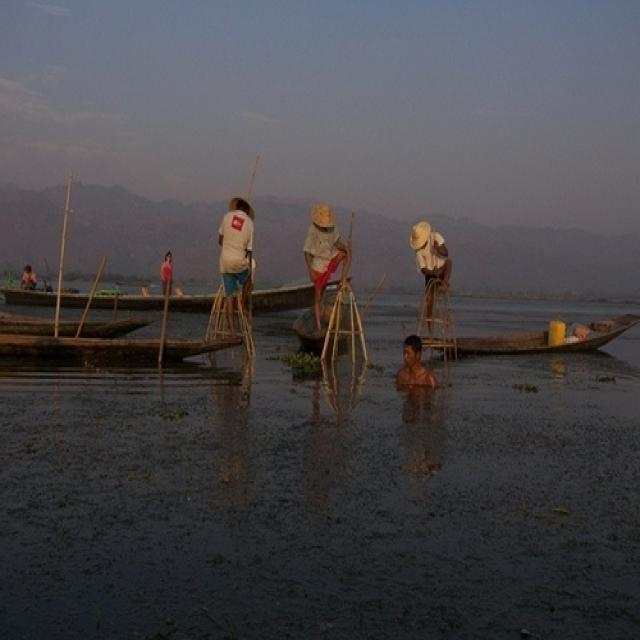boat: (0, 257, 362, 320), (402, 309, 625, 372)
